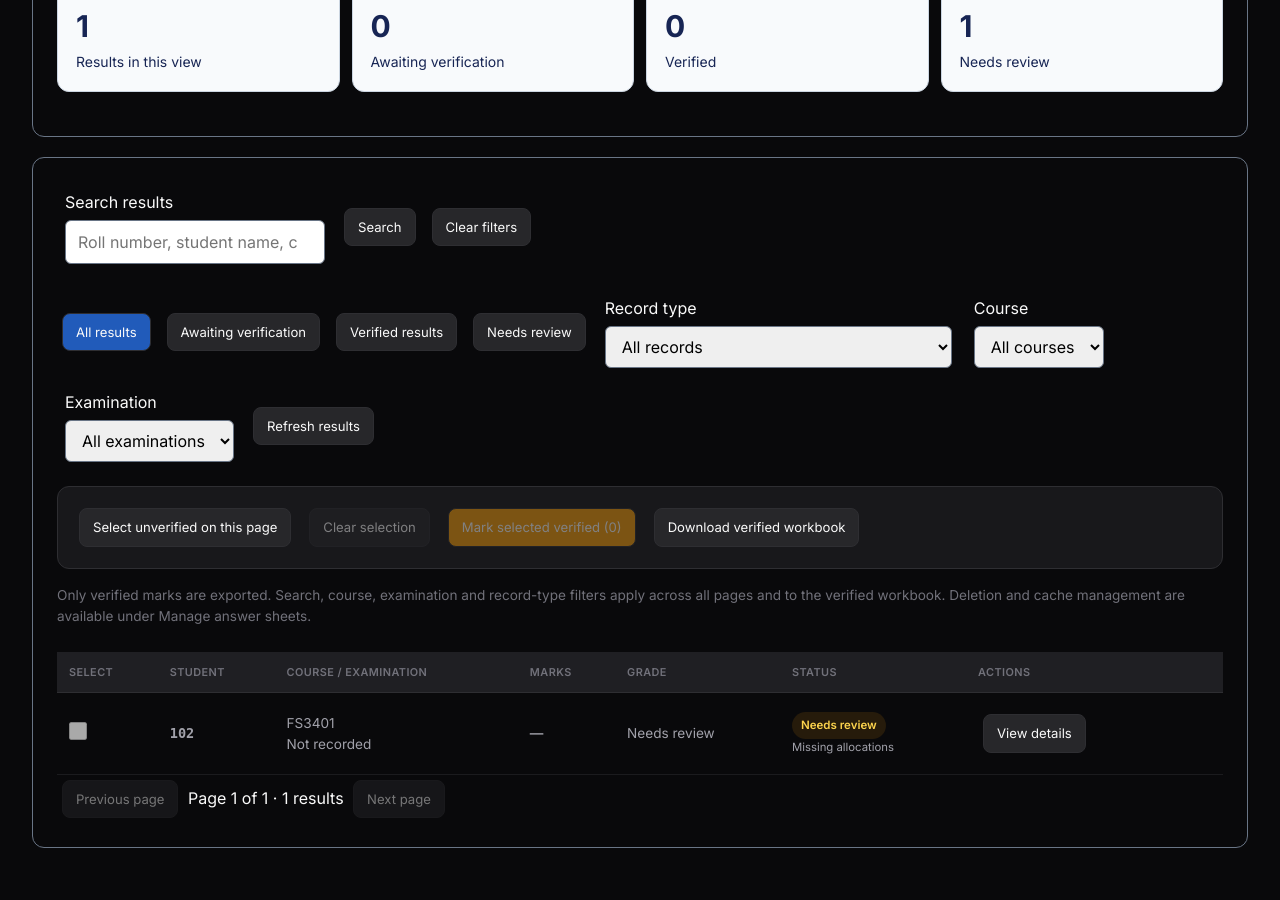
needs review sheets without marks open their reason and cannot be verified
(page scrolled)
Expected: the text "Missing allocations" is shown, [792, 740, 894, 754]
Expected: the checkbox named "Select 102 workspace" is disabled, [69, 722, 87, 740]
Click the button "View details". click: (1034, 734)
box: [983, 714, 1086, 753]
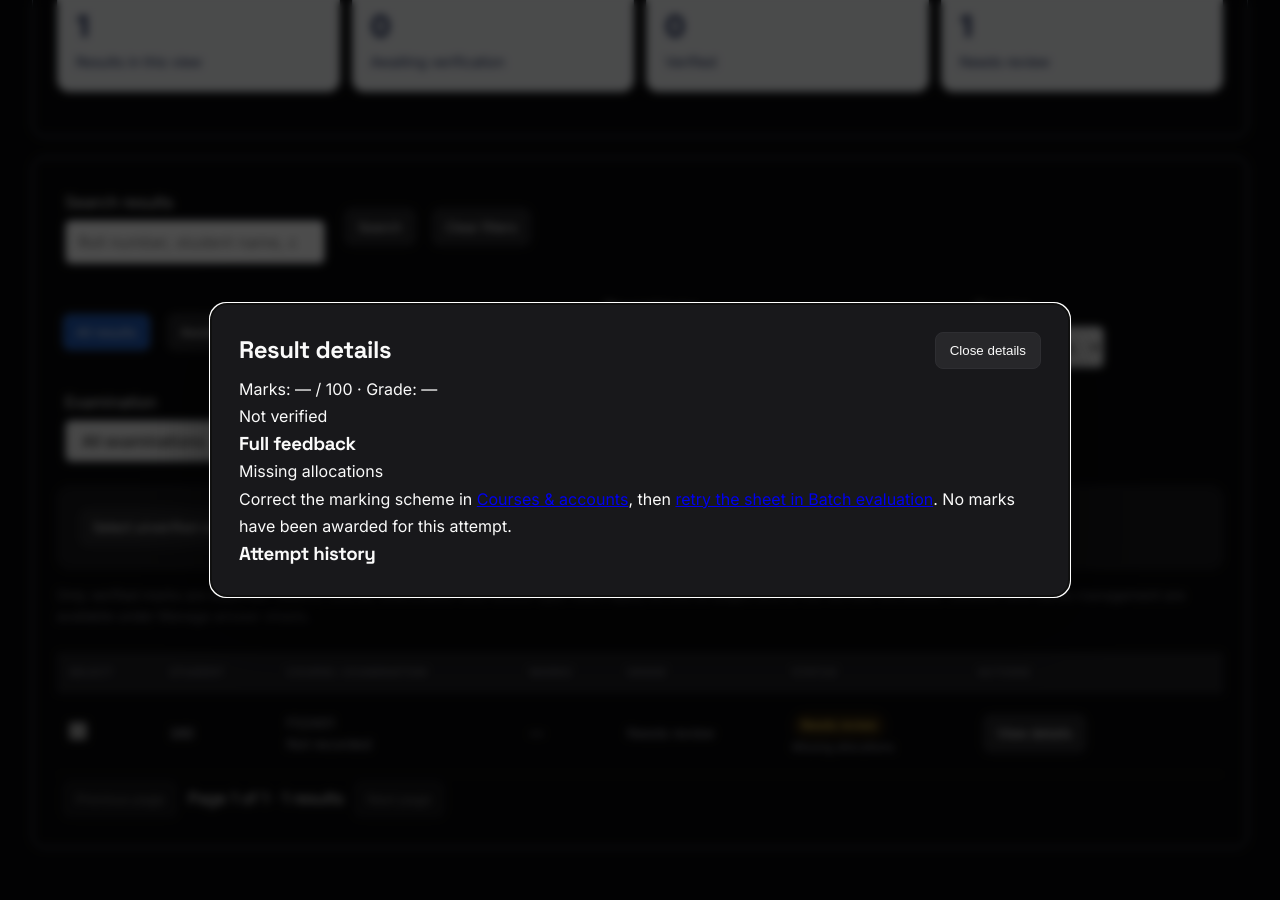
Result: the dialog shows "Missing allocations" at [239, 461, 383, 481]
